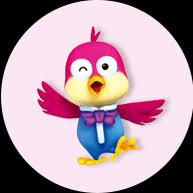Harry: (37, 26, 167, 165)
